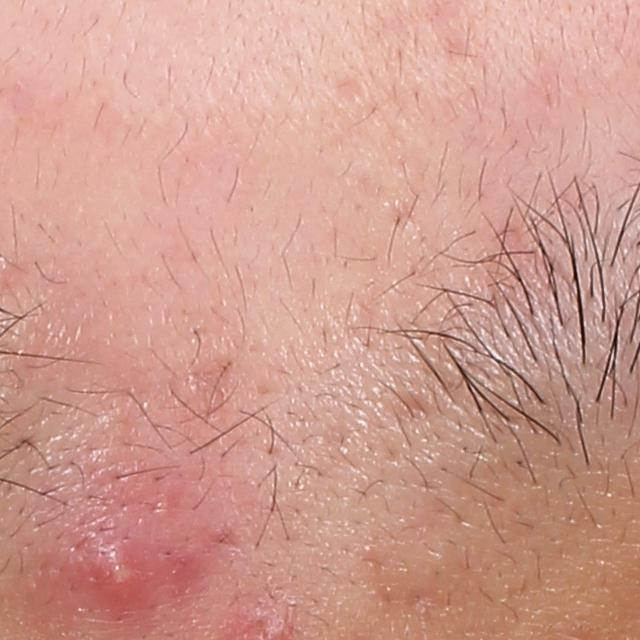atrophic_scar: (186, 356, 235, 413), (326, 72, 370, 111)
